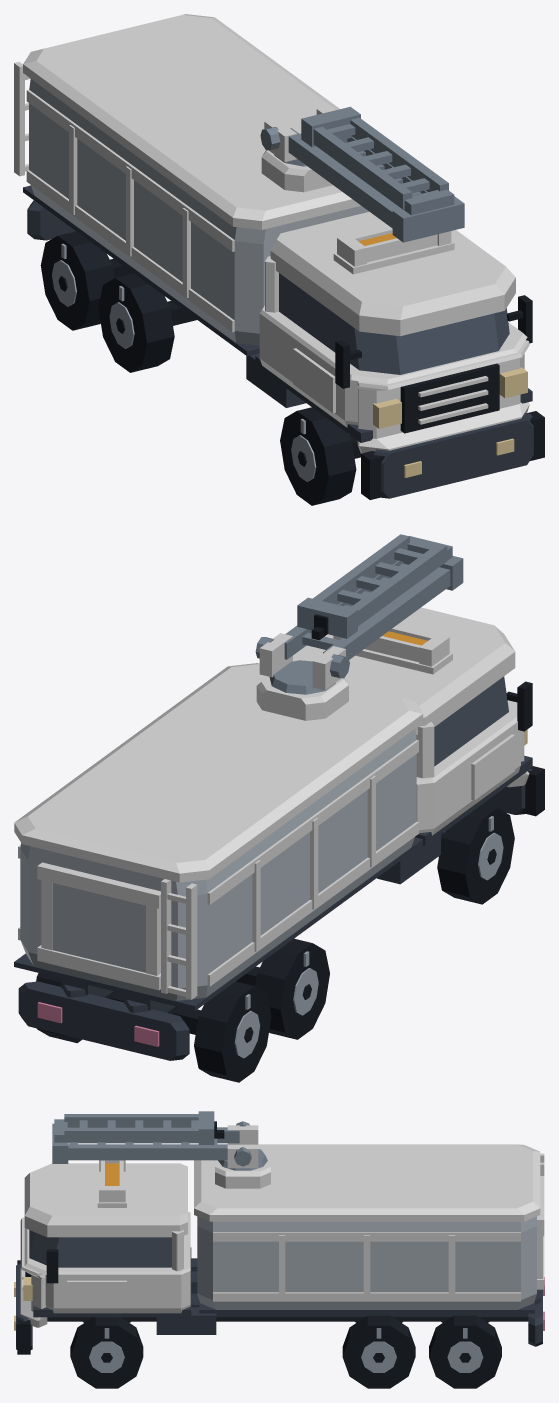
File: six-wheel-utility-truck-c8f599.glb
3 views of the same model, one above another, from view 1: azimuth 30°, elevation 25°; view 2: azimuth 150°, elevation 25°; view 3: azimuth 270°, elevation 25° (orthographic). The views are drawn at different scales.
Visible parts, largest first — view 1: six-wheel-utility-truck-c8f599; view 2: six-wheel-utility-truck-c8f599; view 3: six-wheel-utility-truck-c8f599.
Boxes of the visible parts, x1,y1,x2,y2 form: six-wheel-utility-truck-c8f599: (14, 14, 544, 505); six-wheel-utility-truck-c8f599: (14, 534, 544, 1082); six-wheel-utility-truck-c8f599: (14, 1111, 544, 1388).
Size of the model in its own units: 2.5 by 3.89 by 8.
